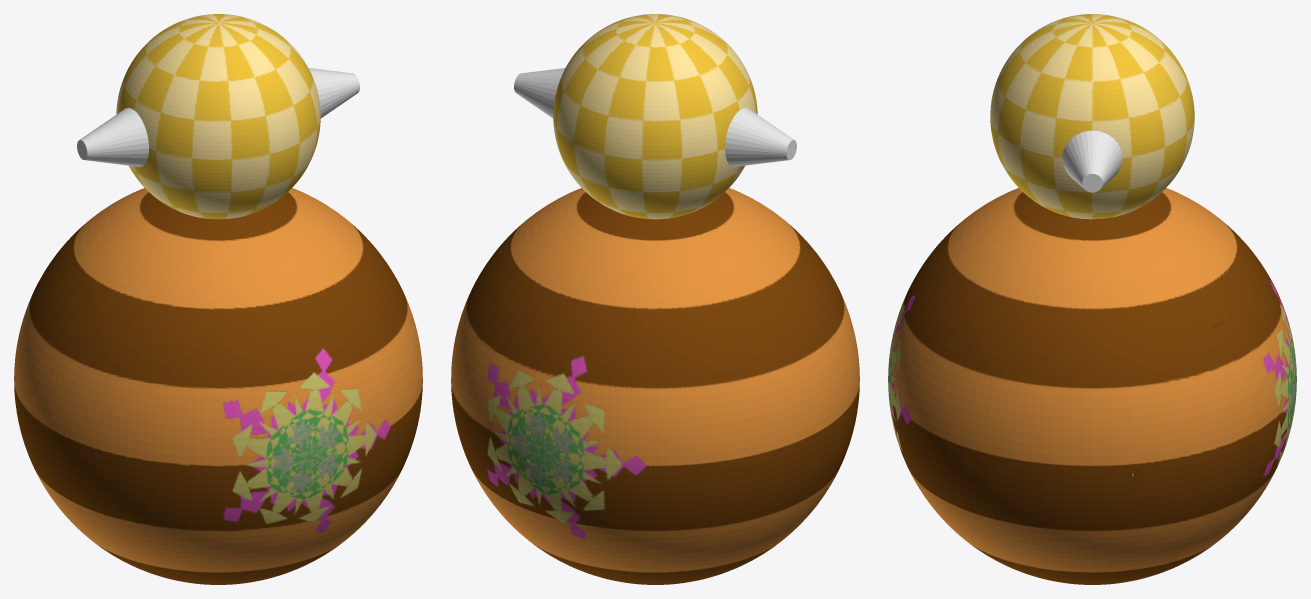
Rendered from BOD0_BMC3_BCC5_BPT1_FRC3_HEA0_HMC6_HCC13_HPT4_ELT2_ERT2_ELL1_ERL0_AP0_AAL1_AAR2_BEK0.fbx.
The picture shows the model from 3 angles, left to right: view 1: azimuth 30°, elevation 25°; view 2: azimuth 150°, elevation 25°; view 3: azimuth 270°, elevation 25°; orthographic projection.
Visible parts, largest first — view 1: Body, Ear, Ear.001; view 2: Body, Ear, Ear.001; view 3: Body, Ear.001.
Boxes of the visible parts, <box> form: Body: <box>14,14,422,584</box>; Ear: <box>77,108,148,166</box>; Ear.001: <box>308,68,359,118</box>; Body: <box>451,14,859,584</box>; Ear: <box>725,108,796,166</box>; Ear.001: <box>514,68,565,118</box>; Body: <box>888,14,1296,584</box>; Ear.001: <box>1062,130,1122,192</box>.
Size of the model in its own units: 49.36 by 72.41 by 49.36.
Materials: 1 (1 with a texture image).
